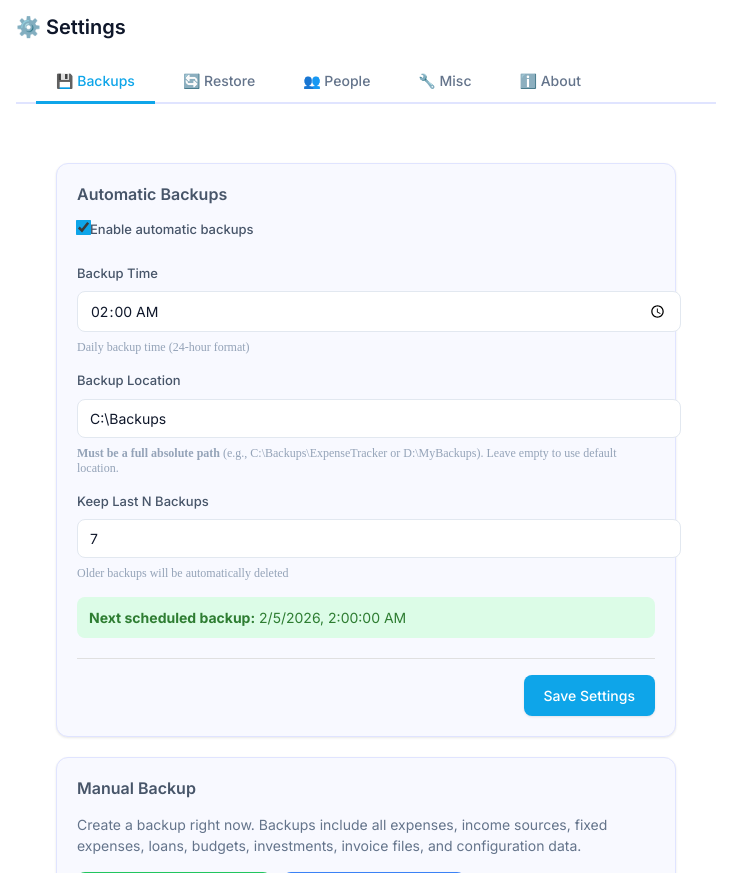
Test case: BackupSettings › Tab navigation › should switch to Restore tab when clicked
The image size is (733, 873).
Click the button "🔄 Restore": [219, 82] box [163,60,275,104]
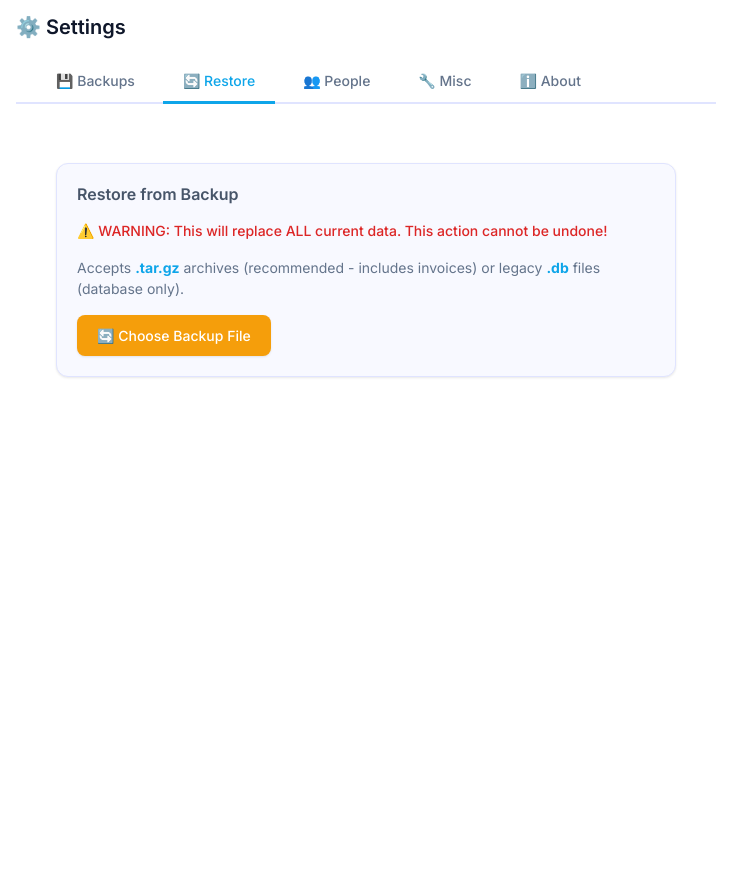
Expected: the heading "Restore from Backup" is shown, [77,184,239,204]
